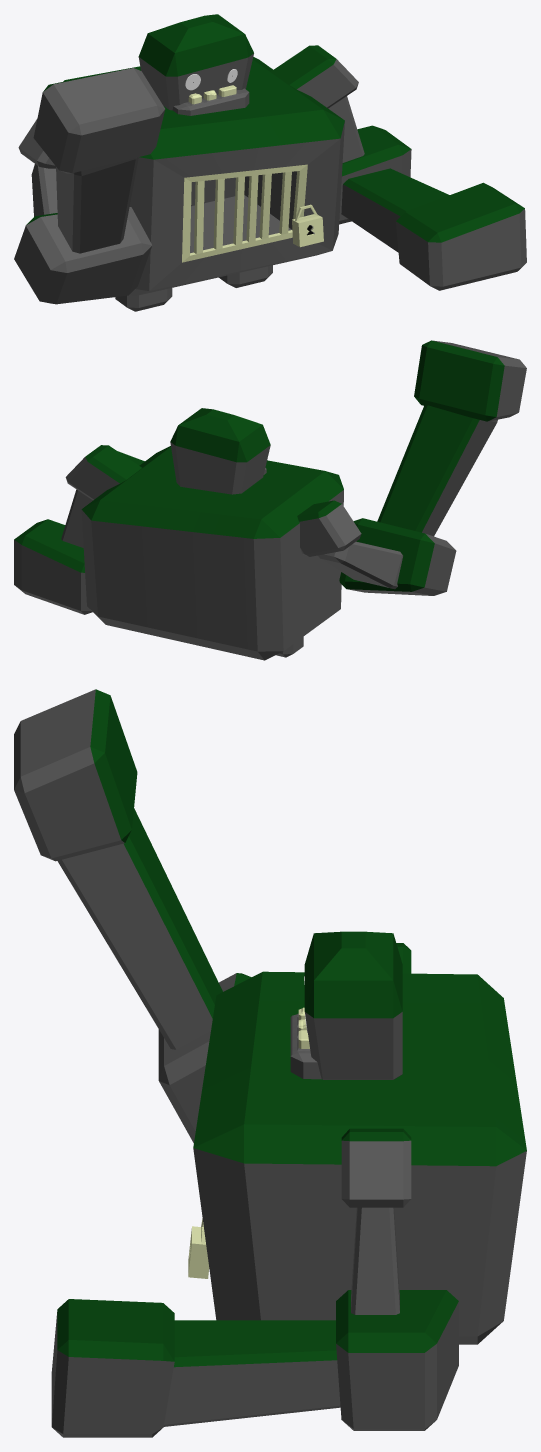
The model's file is RightHalfGoofy.fbx.
The picture shows the model from 3 angles, top to bottom: view 1: azimuth 30°, elevation 25°; view 2: azimuth 150°, elevation 25°; view 3: azimuth 270°, elevation 25°; orthographic projection. The views are drawn at different scales.
Visible parts, largest first — view 1: Sphere.003, Sphere.005, Sphere.010, Sphere.012, Sphere.011, Sphere.006, Sphere.009, Sphere.007, Sphere.013, Sphere.008, Sphere.014; view 2: Sphere.003, Sphere.011, Sphere.010, Sphere.007, Sphere.012, Sphere.014, Sphere.013, Sphere.009, Sphere.008; view 3: Sphere.003, Sphere.011, Sphere.010, Sphere.006, Sphere.005, Sphere.007, Sphere.009, Sphere.008, Sphere.012.
Part boxes in pixels (box(x1,y1,x2,y2)): Sphere.003: box(63, 14, 344, 311); Sphere.005: box(396, 182, 526, 290); Sphere.010: box(33, 68, 165, 173); Sphere.012: box(14, 207, 152, 304); Sphere.011: box(56, 157, 138, 253); Sphere.006: box(341, 168, 449, 252); Sphere.009: box(270, 45, 358, 108); Sphere.007: box(339, 125, 411, 224); Sphere.013: box(31, 164, 57, 216); Sphere.008: box(328, 96, 364, 162); Sphere.014: box(18, 119, 55, 168); Sphere.003: box(81, 408, 343, 660); Sphere.011: box(377, 405, 497, 536); Sphere.010: box(414, 340, 526, 421); Sphere.007: box(14, 519, 92, 614); Sphere.012: box(339, 518, 456, 595); Sphere.014: box(297, 500, 361, 556); Sphere.013: box(318, 541, 402, 589); Sphere.009: box(65, 445, 141, 500); Sphere.008: box(61, 489, 92, 547); Sphere.003: box(188, 931, 526, 1344); Sphere.011: box(57, 808, 222, 1049); Sphere.010: box(14, 689, 137, 861); Sphere.006: box(163, 1320, 340, 1426); Sphere.005: box(51, 1299, 174, 1437); Sphere.007: box(336, 1290, 458, 1430); Sphere.009: box(341, 1128, 411, 1207); Sphere.008: box(351, 1207, 399, 1314); Sphere.012: box(158, 973, 251, 1143).
Bounding box in the file's own units: 2889 × 1876 × 1856.
